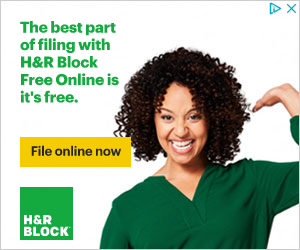fake_button: (12, 125, 143, 175)
